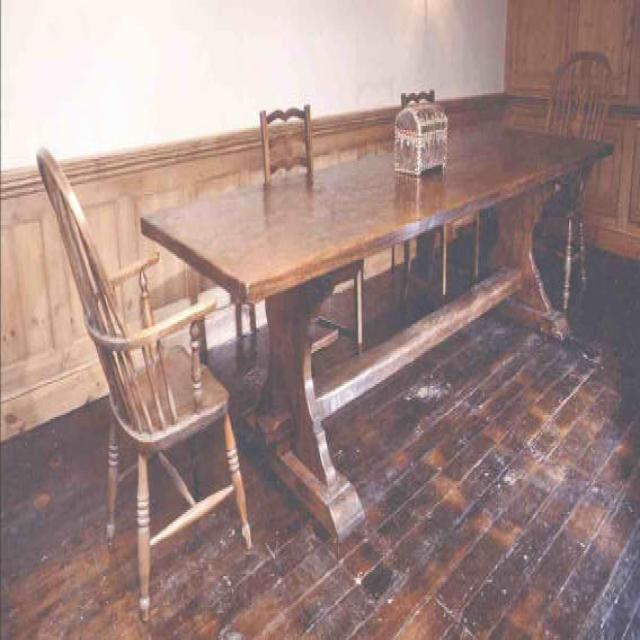table: (141, 124, 612, 544)
